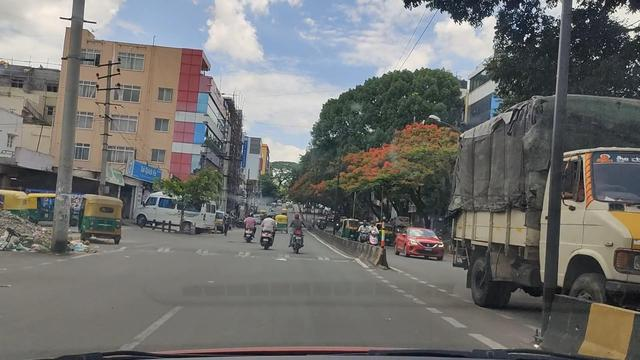SpeedBump: (141, 245, 354, 263)
